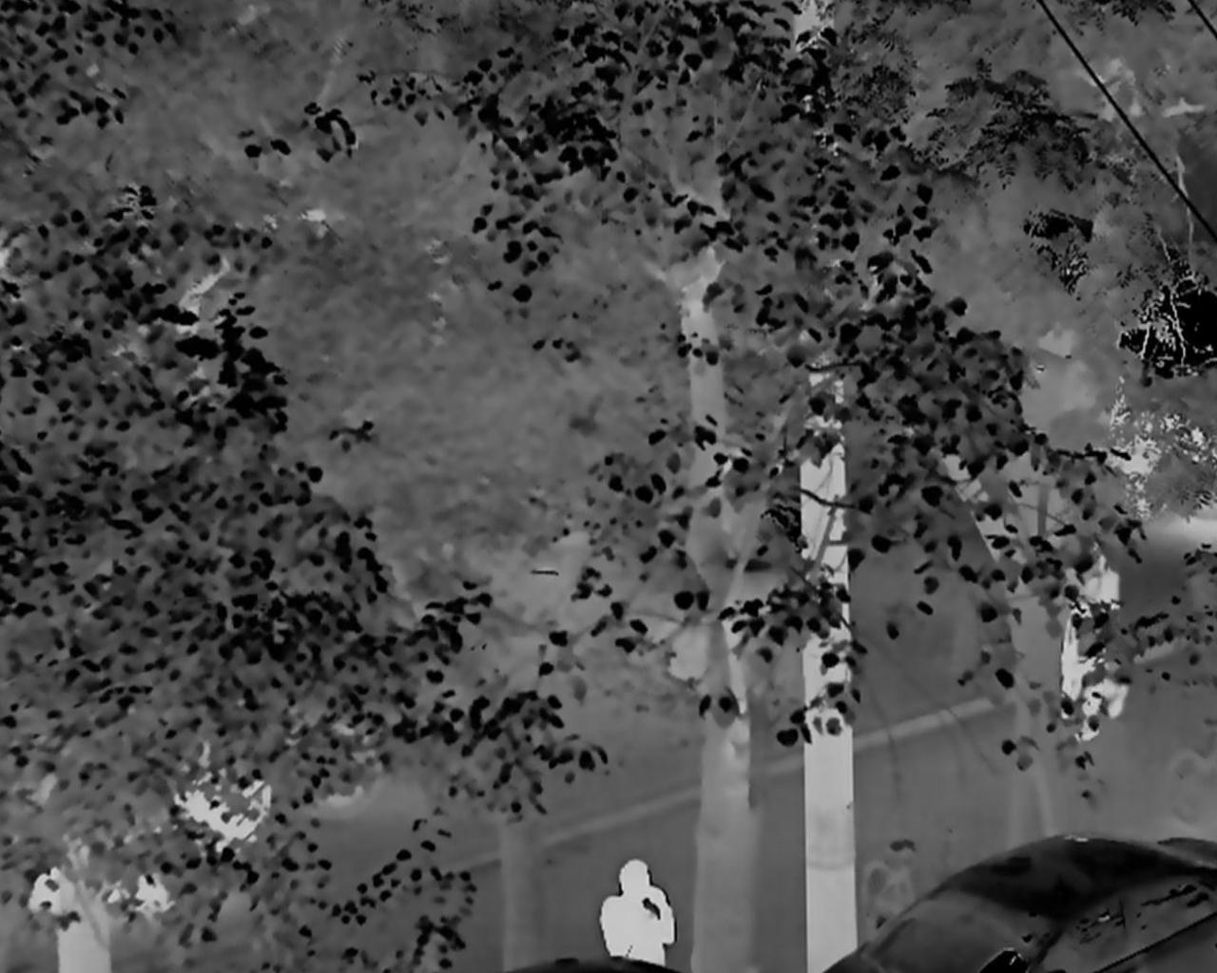person: (1060, 540, 1131, 739), (598, 860, 675, 973)
